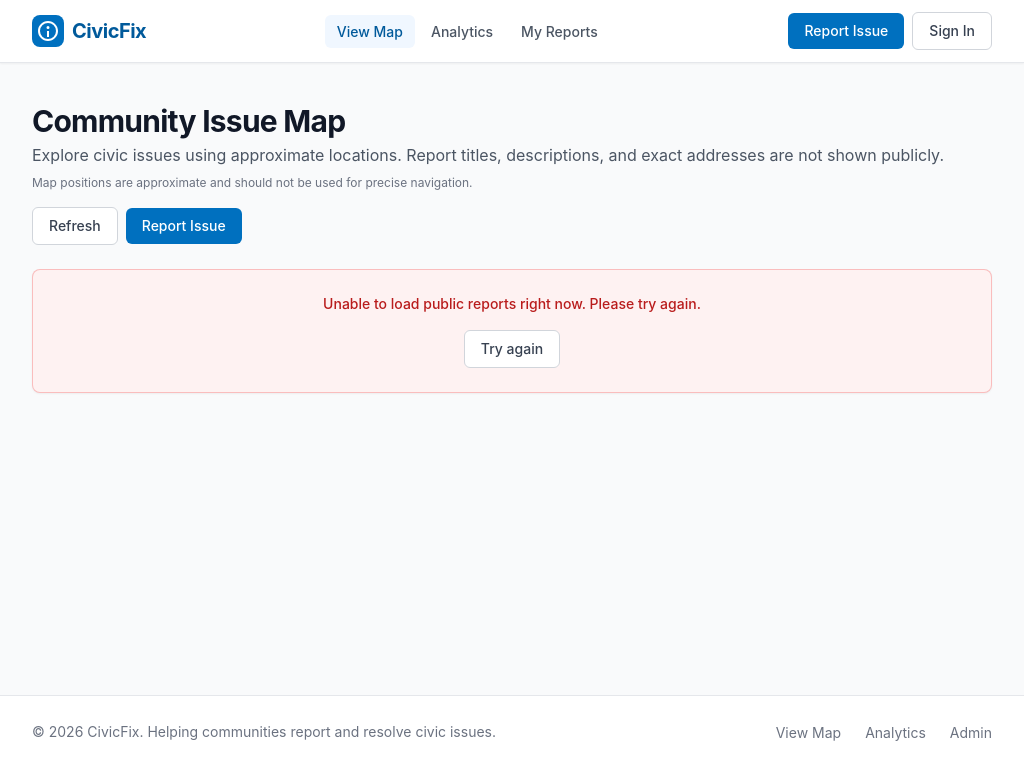
Test case: PublicMapPage (M4.1) › shows an error state and retries when fetching public reports fails
The width and height of the screenshot is (1024, 768).
expect the message shows "Unable to load public reports": met, box [323, 295, 701, 312]
Click the button "Try again".
click(512, 349)  # box [464, 330, 560, 368]
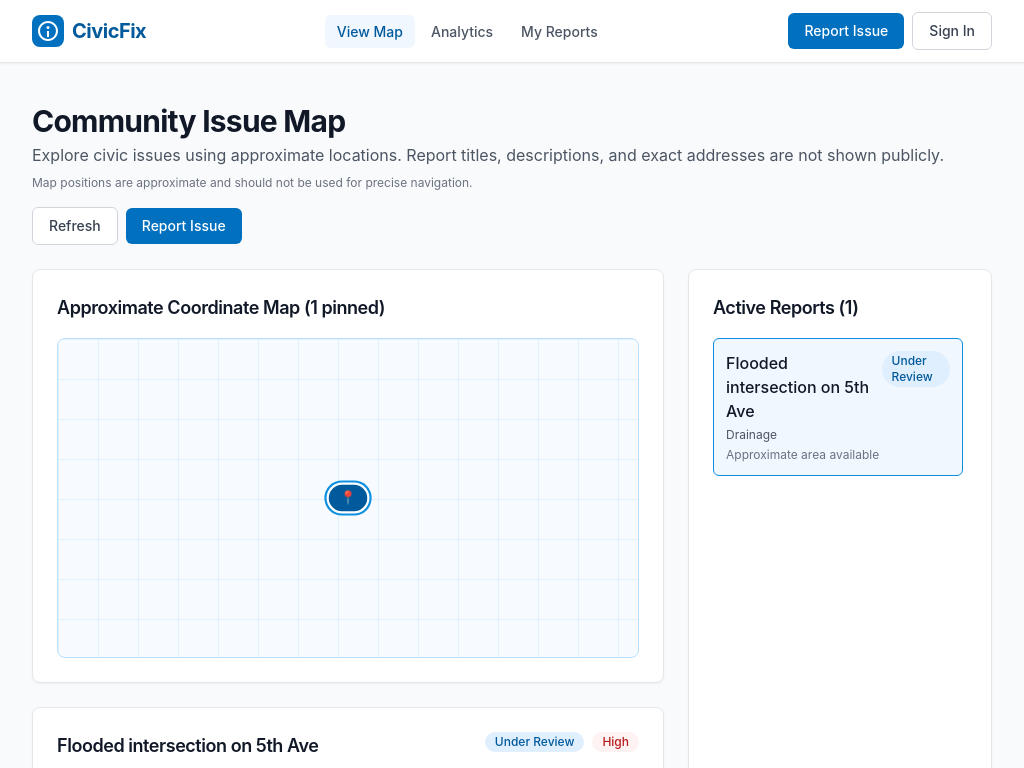
expect the heading "Flooded intersection on 5th Ave" is shown: met, box [57, 732, 318, 760]
